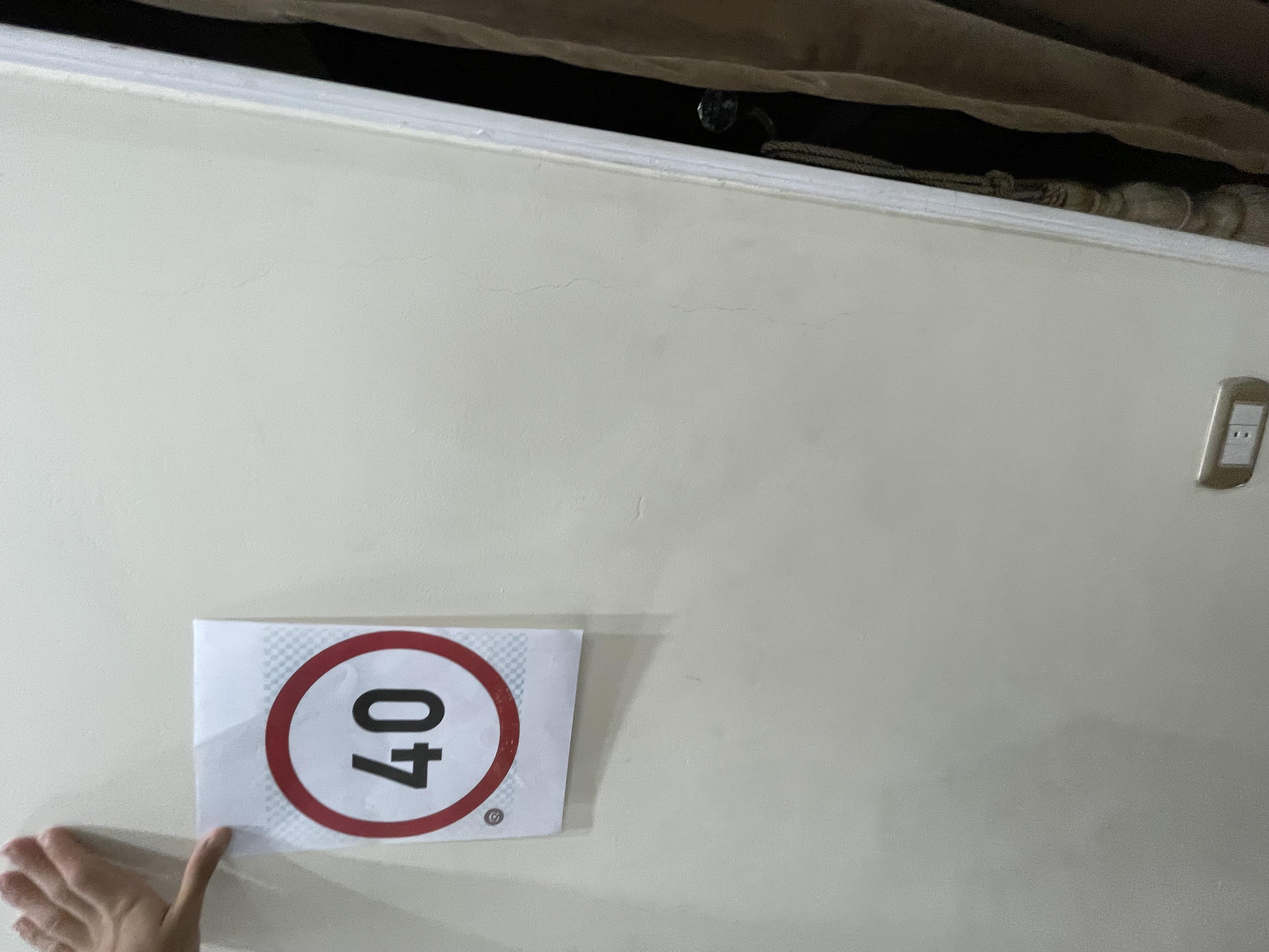40-Speed: (150, 195, 428, 390)
